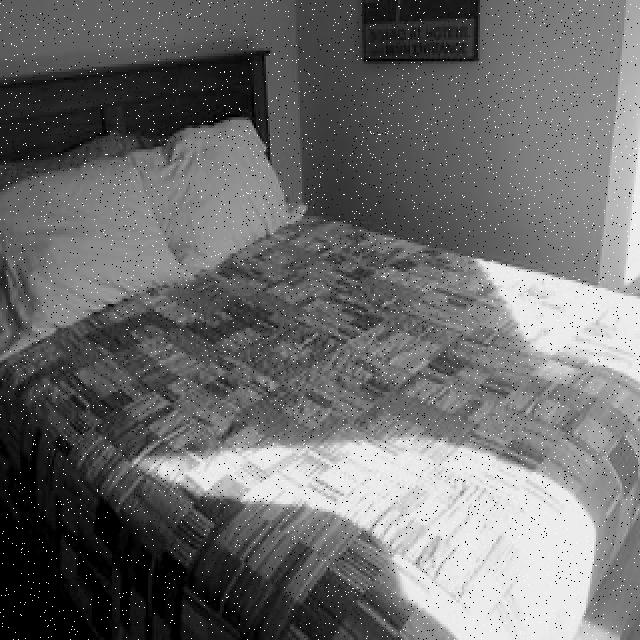bed: (2, 37, 640, 640)
